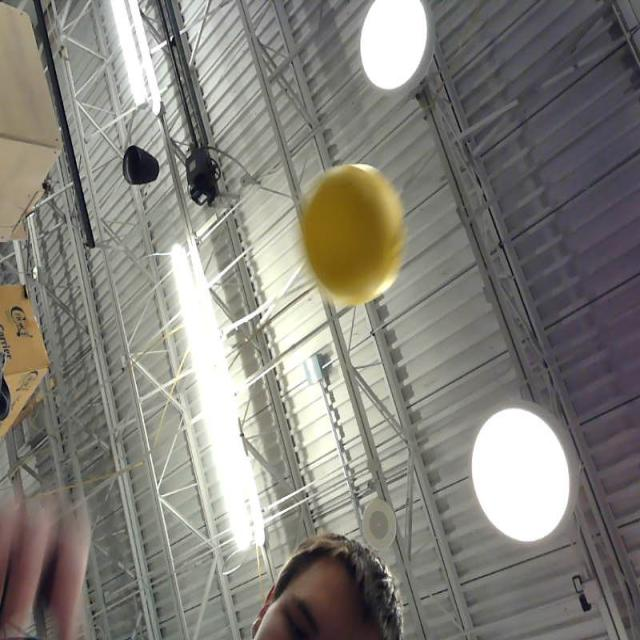Fuel: (305, 164, 400, 299)
